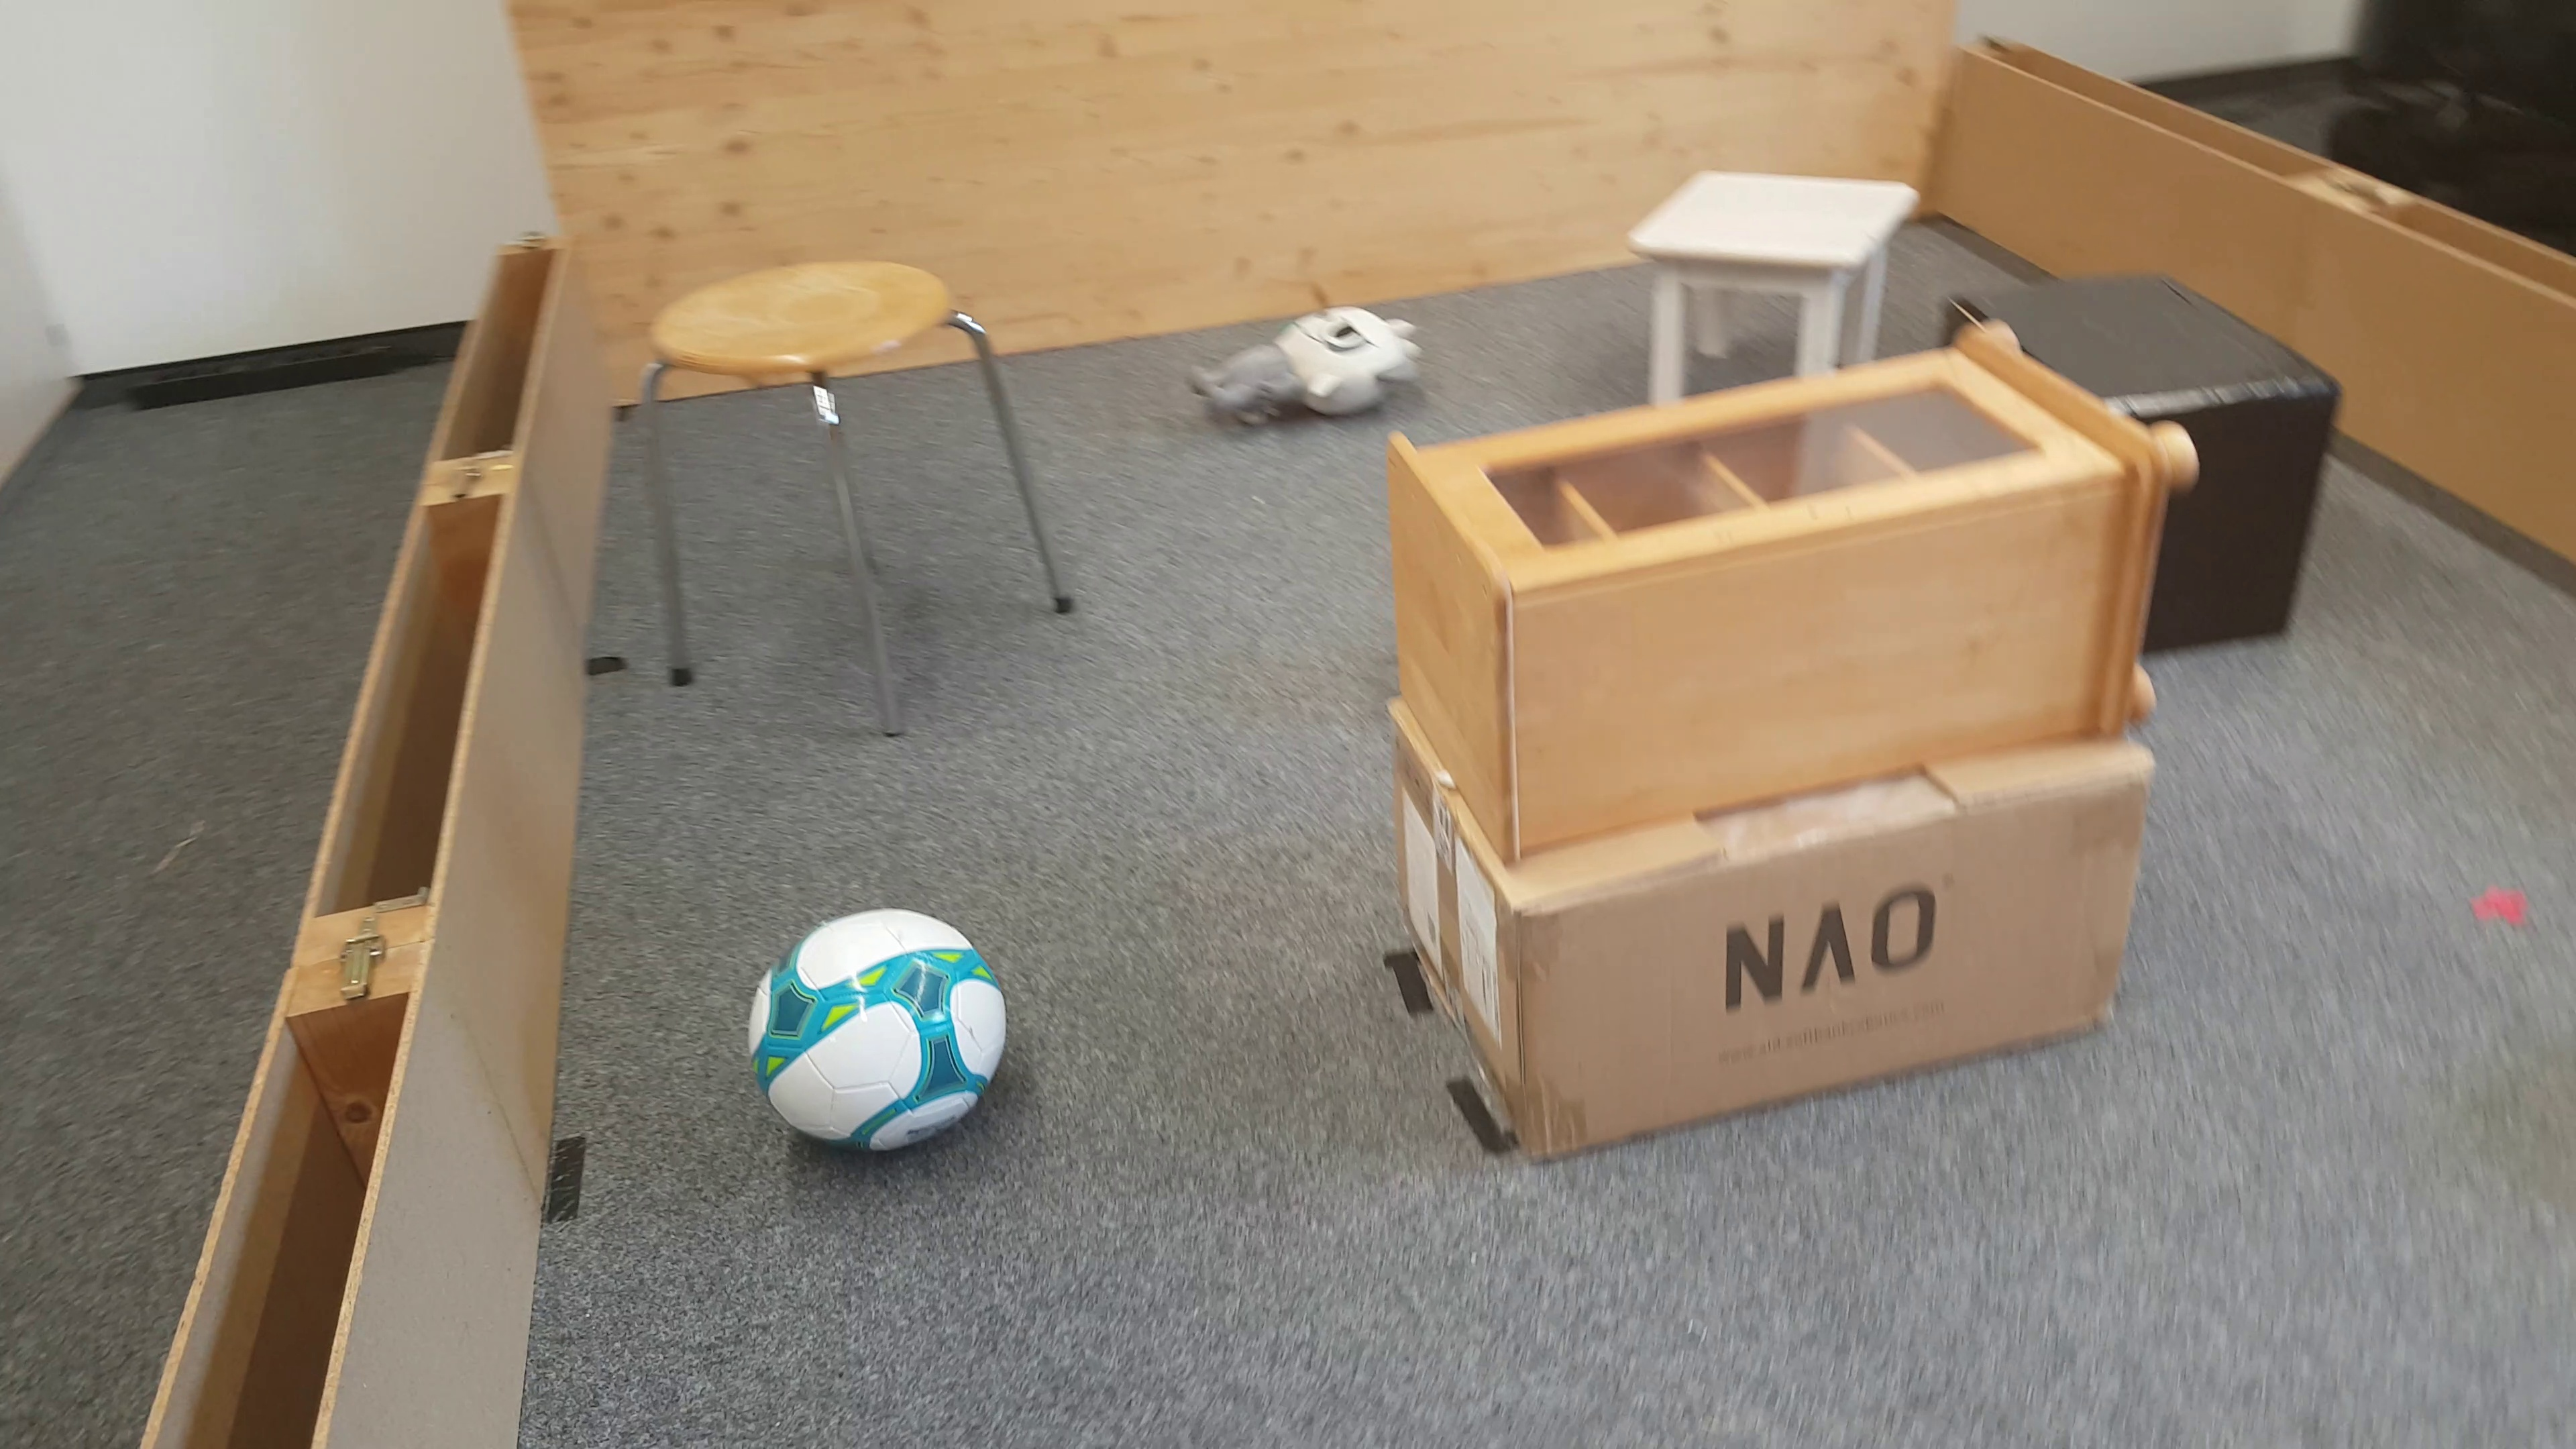grasp: (1191, 306, 1428, 425)
kick: (748, 909, 1016, 1157)
push: (2206, 304, 2341, 644)
